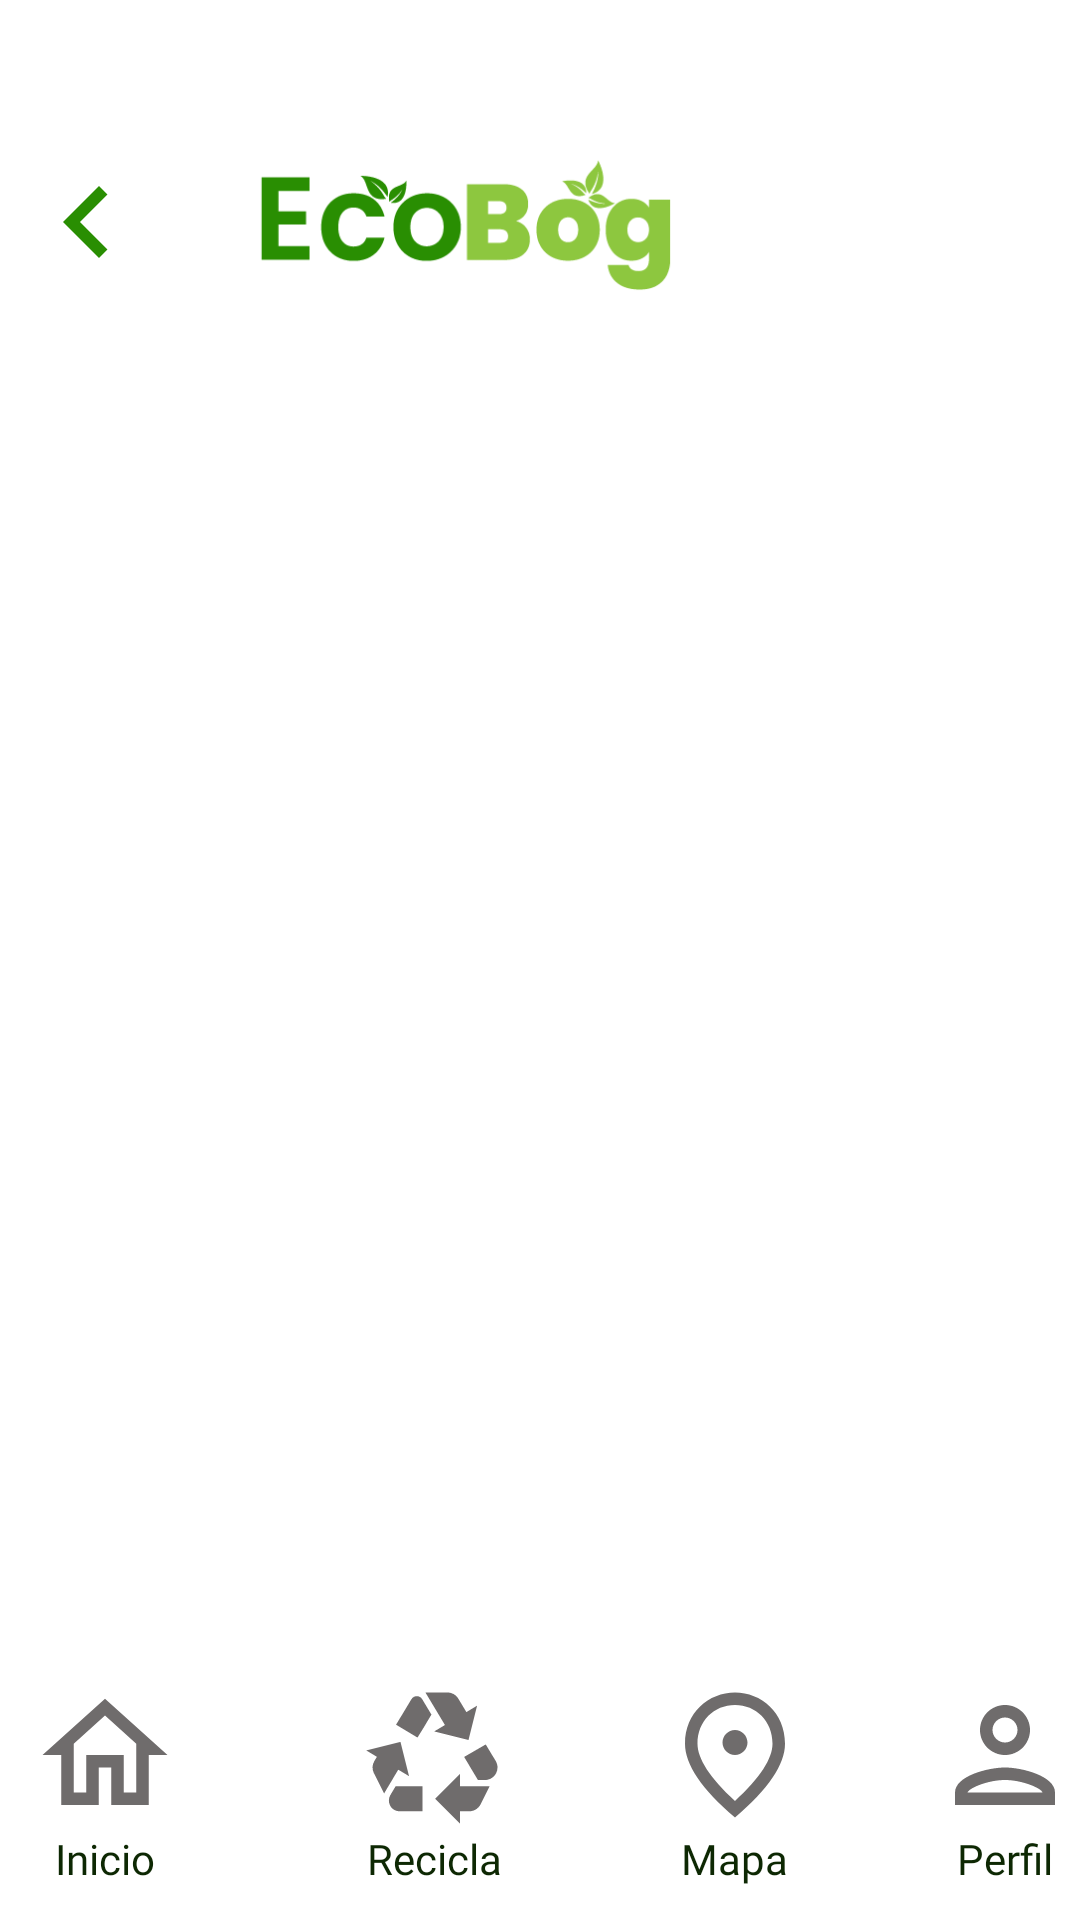

Where to tap for icons on this 1080x1920 app screen, as (x,y):
place: (735,1754)
Volver a la pantalla anterior: (85,222)
